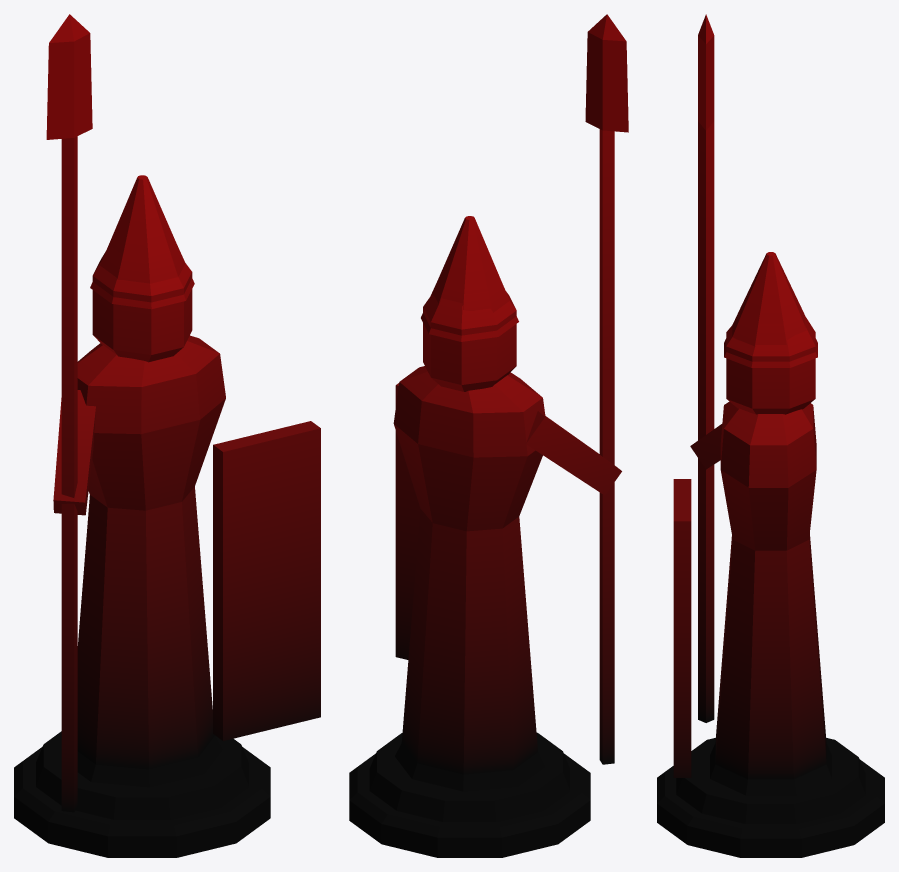
The model's file is ns-block-spearman.glb.
3 views of the same model, side by side, from view 1: azimuth 30°, elevation 25°; view 2: azimuth 150°, elevation 25°; view 3: azimuth 270°, elevation 25° (orthographic). The views are drawn at different scales.
Parts seen in each view (by area): view 1: Ringed form.002, Cube, Ringed form, Tapered form, Ringed form.001, Ringed form.003, Ringed form.004, Blade, Tapered form.001; view 2: Ringed form.002, Ringed form, Tapered form, Ringed form.001, Ringed form.003, Ringed form.004, Blade, Cube, Tapered form.001; view 3: Ringed form.002, Tapered form, Ringed form, Ringed form.001, Ringed form.003, Cube, Ringed form.004, Blade, Tapered form.001.
Boxes of the visible parts, <box> form: Ringed form.002: <box>77,335,225,787</box>; Cube: <box>213,421,320,740</box>; Ringed form: <box>14,747,270,857</box>; Tapered form: <box>61,136,77,812</box>; Ringed form.001: <box>36,731,248,819</box>; Ringed form.003: <box>92,251,192,362</box>; Ringed form.004: <box>90,175,194,309</box>; Blade: <box>46,14,92,139</box>; Tapered form.001: <box>53,390,95,515</box>; Ringed form.002: <box>393,366,545,791</box>; Ringed form: <box>349,753,590,857</box>; Tapered form: <box>599,129,614,764</box>; Ringed form.001: <box>369,732,569,821</box>; Ringed form.003: <box>423,291,516,391</box>; Ringed form.004: <box>421,216,518,341</box>; Blade: <box>585,14,628,132</box>; Cube: <box>395,383,420,659</box>; Tapered form.001: <box>526,411,621,495</box>; Ringed form.002: <box>710,401,831,795</box>; Tapered form: <box>698,121,714,722</box>; Ringed form: <box>657,759,884,857</box>; Ringed form.001: <box>676,738,865,823</box>; Ringed form.003: <box>726,315,815,414</box>; Cube: <box>673,479,691,777</box>; Ringed form.004: <box>724,252,817,367</box>; Blade: <box>698,14,714,130</box>; Tapered form.001: <box>690,424,722,469</box>.
Bounding box in the file's own units: 0.445 × 1.4 × 0.3864.
